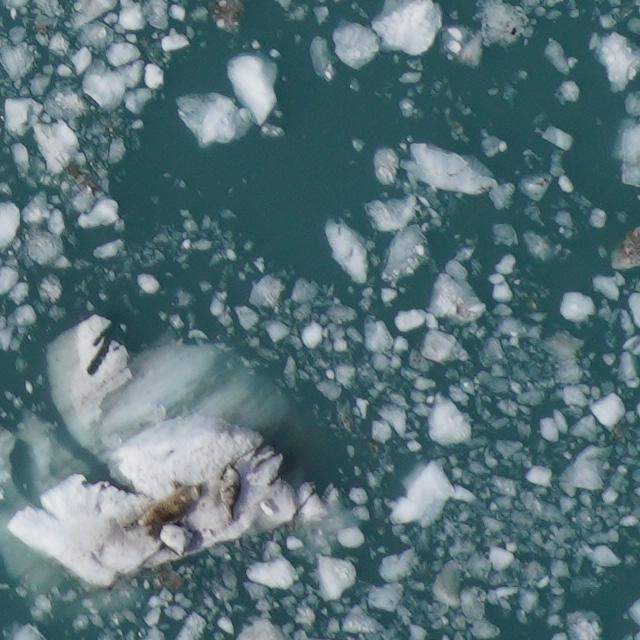seal: (129, 480, 203, 532), (220, 459, 240, 524)
